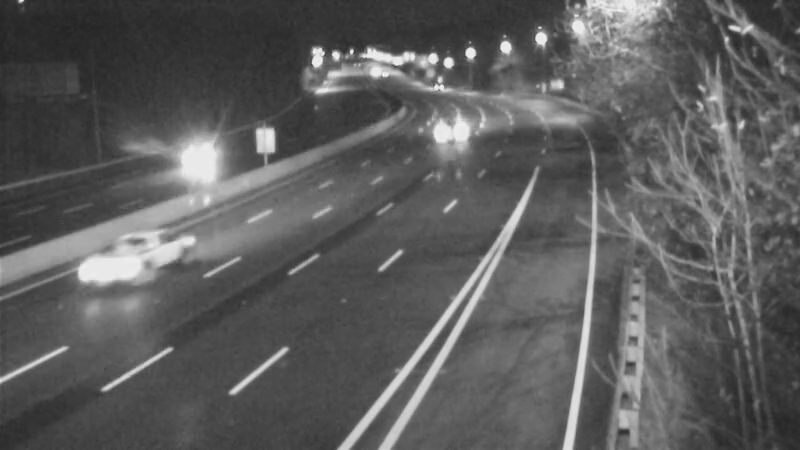vehicle: (83, 216, 163, 296), (161, 123, 241, 203), (413, 62, 463, 112), (425, 108, 475, 158)
